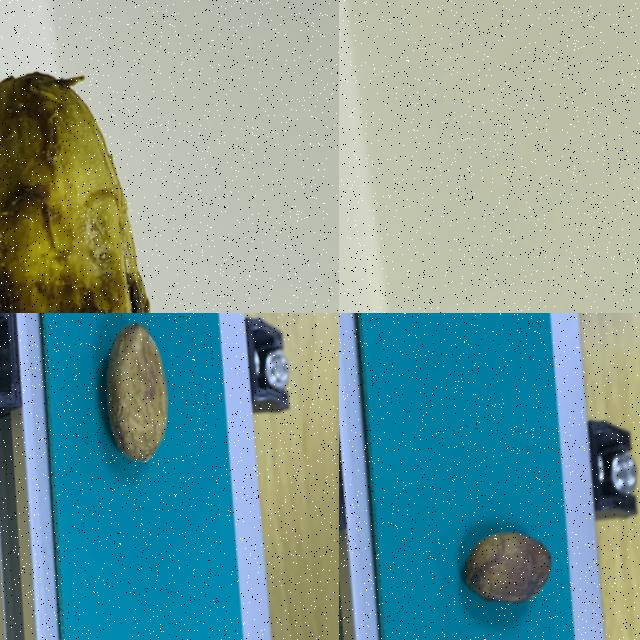Agglomerated_cocoabeans: (0, 0, 246, 312)
Fine_cocoabeans: (418, 424, 617, 639), (65, 313, 222, 518)
Flat_cocoabeans: (339, 0, 431, 312)
